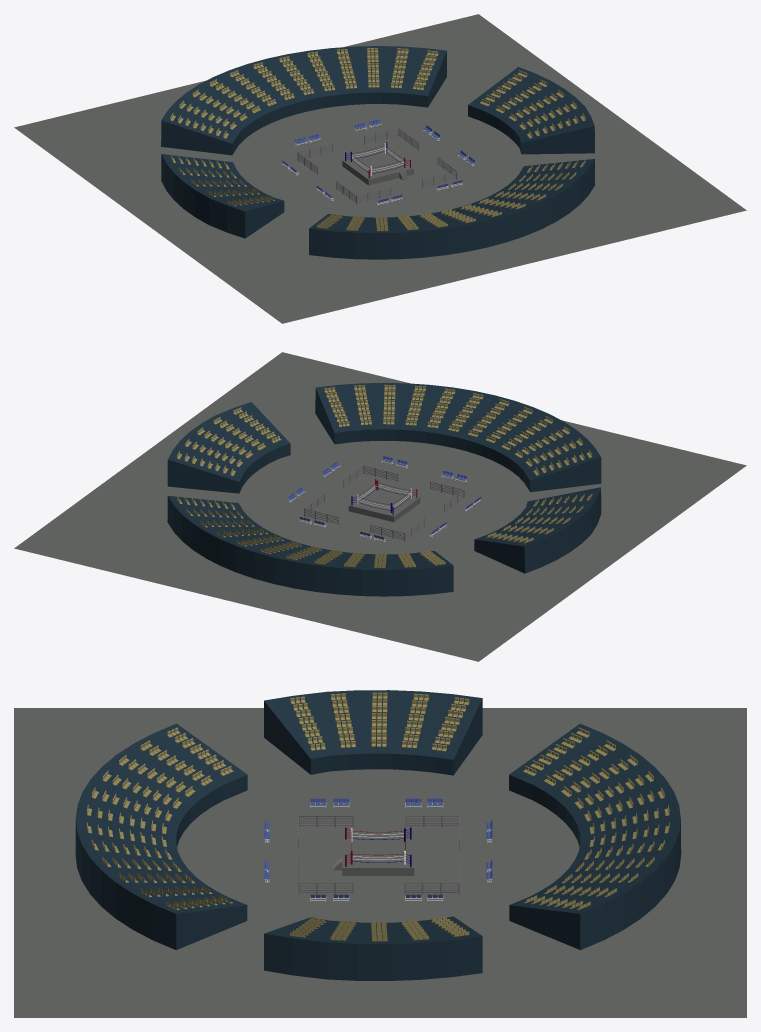
Rendered from Ring_Son Hali.fbx.
The picture shows the model from 3 angles, top to bottom: view 1: azimuth 30°, elevation 25°; view 2: azimuth 150°, elevation 25°; view 3: azimuth 270°, elevation 25°; orthographic projection. The views are drawn at different scales.
Visible parts, largest first — view 1: zemin, seyirci2, seyirci, ring; view 2: zemin, seyirci2, seyirci, ring; view 3: zemin, seyirci2, seyirci, ring.
Boxes of the visible parts, left/top/right/bottom form: zemin: left=14, top=14, right=746, bottom=323; seyirci2: left=161, top=46, right=594, bottom=259; seyirci: left=161, top=67, right=594, bottom=238; ring: left=342, top=142, right=413, bottom=185; zemin: left=14, top=352, right=746, bottom=661; seyirci2: left=167, top=383, right=601, bottom=596; seyirci: left=167, top=402, right=601, bottom=573; ring: left=348, top=479, right=420, bottom=522; zemin: left=14, top=708, right=746, bottom=1017; seyirci2: left=75, top=723, right=681, bottom=949; seyirci: left=264, top=690, right=482, bottom=980; ring: left=342, top=827, right=414, bottom=875.
Size of the model in its own units: 112 by 7.75 by 112.
